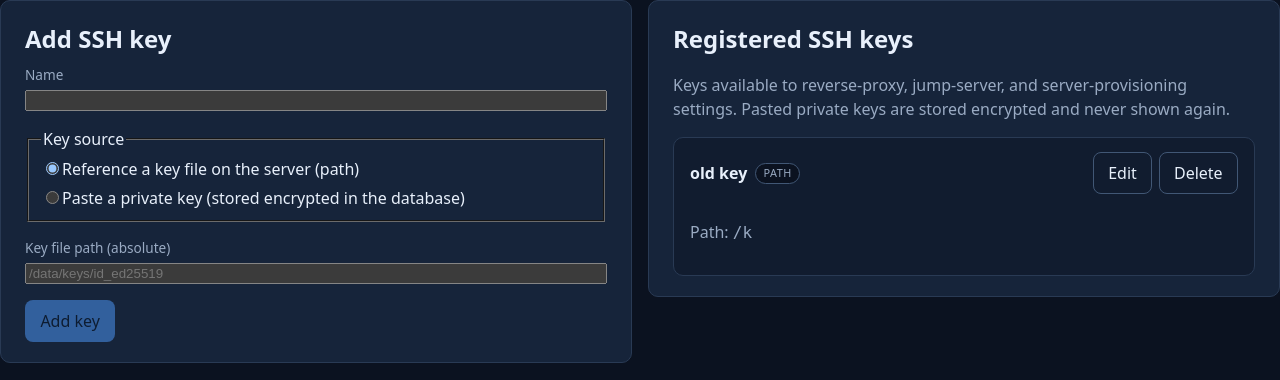
Scenario: RemoteAccessConfig › deletes a key after confirmation
The image size is (1280, 380).
Expected: the text "old key" is shown, [690, 161, 747, 185]
Click the button "Delete".
click(1198, 173)  # box [1159, 152, 1238, 194]
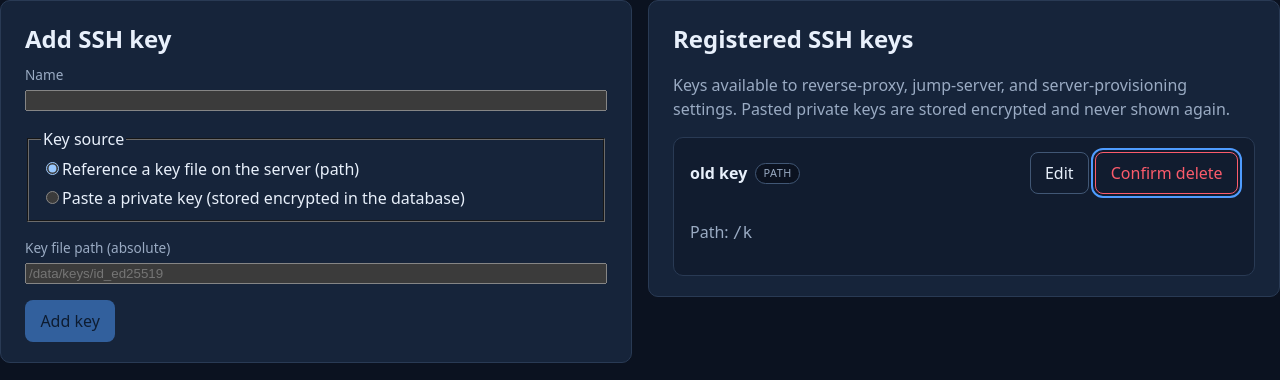
Click the button "Confirm delete".
click(1167, 173)  # box [1095, 152, 1238, 194]
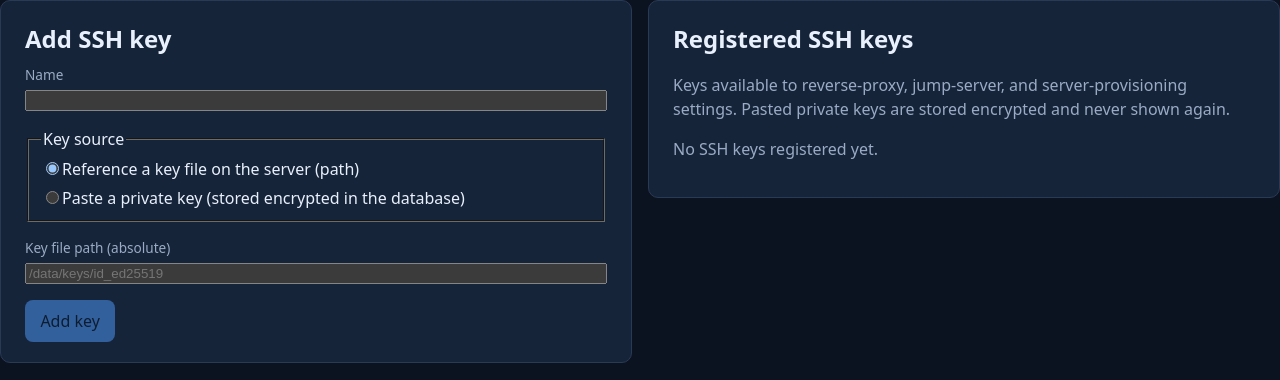
Expected: the text "No SSH keys registered yet." is shown, [673, 138, 878, 160]
